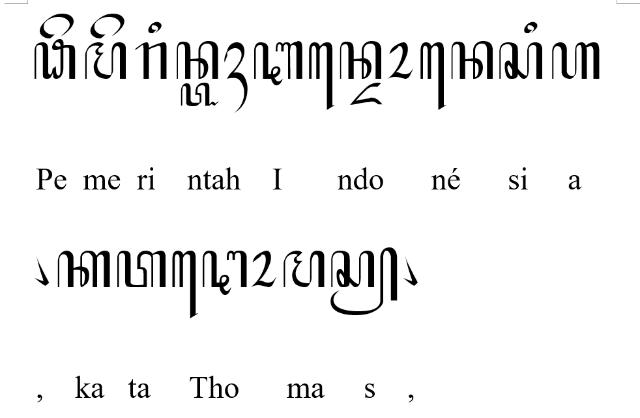-s: (329, 247, 398, 317)
I: (253, 40, 303, 86)
P: (34, 38, 76, 80), (39, 12, 75, 40)
_d: (350, 82, 382, 106)
_h1: (224, 42, 248, 114)
_t: (180, 82, 220, 107)
e: (90, 13, 126, 39)
e1: (172, 250, 198, 320), (308, 42, 334, 111), (420, 42, 446, 111)
h: (552, 40, 600, 80)
i: (148, 21, 162, 34), (524, 22, 538, 34)
k: (57, 250, 111, 288)
kom: (402, 256, 418, 288), (34, 256, 48, 286)
m: (85, 42, 127, 80), (283, 250, 325, 288)
n: (177, 40, 220, 80), (340, 40, 382, 80), (451, 42, 494, 80)
o: (250, 250, 278, 288), (388, 41, 414, 78)
r: (136, 42, 168, 80)
s: (498, 42, 542, 80)
t: (117, 250, 167, 288)
th: (202, 250, 248, 296)
